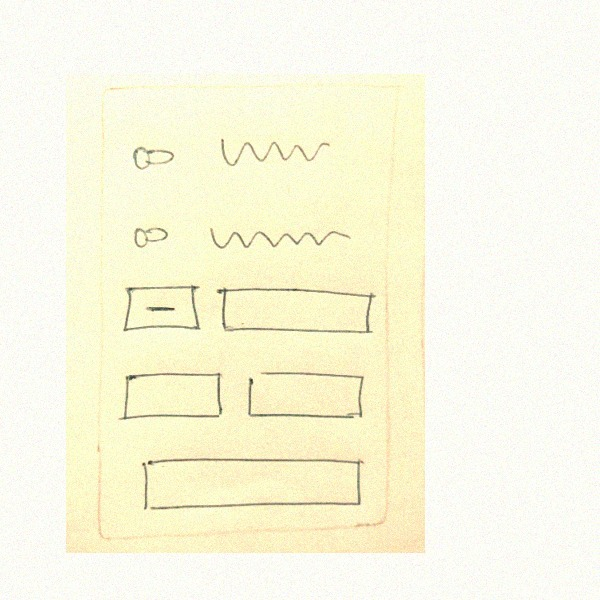button: (116, 278, 205, 341)
switch: (129, 137, 183, 174), (125, 220, 175, 254)
text: (210, 130, 335, 177), (203, 219, 359, 251)
text_input: (136, 454, 370, 515), (214, 281, 378, 342), (239, 366, 374, 429), (115, 368, 228, 427)
